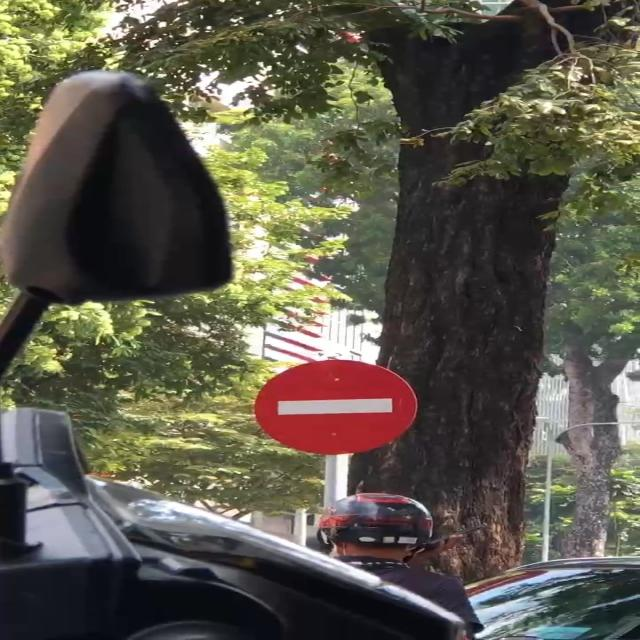Bien bao cam di nguoc chieu: (248, 357, 426, 458)
